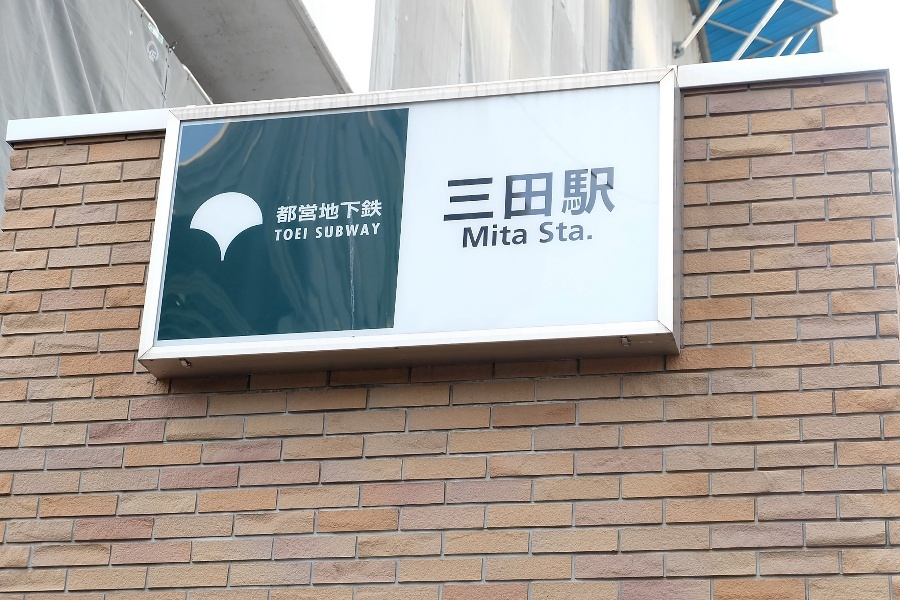text: (449, 167, 464, 222), (465, 167, 480, 222), (481, 167, 496, 222), (497, 167, 512, 222), (513, 167, 528, 222), (529, 167, 544, 222), (545, 167, 560, 222), (561, 167, 576, 222), (577, 167, 592, 222), (593, 167, 608, 222), (289, 200, 304, 224), (305, 200, 320, 224), (321, 200, 336, 224), (337, 200, 352, 224), (353, 200, 368, 224), (465, 224, 480, 248), (481, 224, 496, 248), (497, 224, 512, 248), (513, 224, 527, 248), (545, 222, 560, 244), (561, 222, 576, 244), (577, 222, 592, 244), (609, 167, 615, 222), (369, 200, 382, 224), (277, 200, 288, 224), (321, 223, 336, 239), (337, 223, 352, 239), (353, 223, 368, 239), (289, 228, 304, 241), (369, 223, 381, 239), (276, 228, 288, 241), (540, 222, 544, 244), (316, 223, 320, 239), (305, 228, 307, 241)
